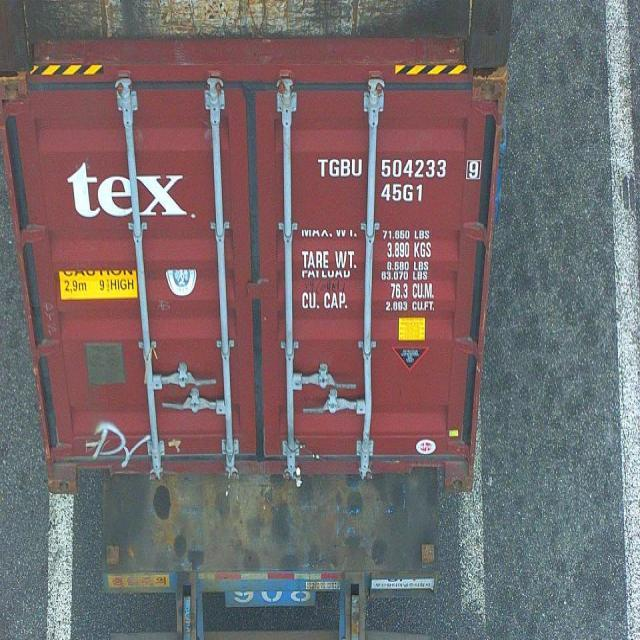ISO: (382, 183, 424, 202)
container_number: (323, 155, 483, 180)
